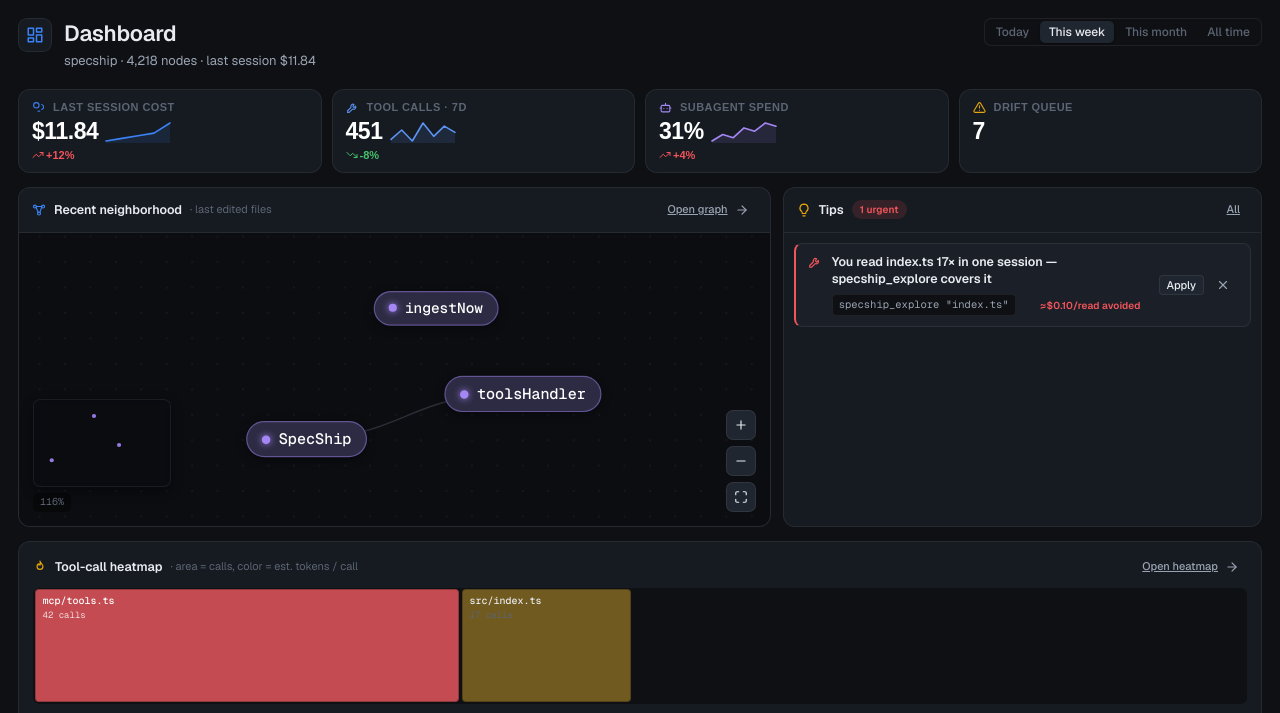
Scenario: DashboardPage (REQ-DESKTOP-020) › A2: Dismiss POSTs the state and removes the tip from the rail
This screenshot has width=1280, height=713.
Expected: the text "You read index.ts 17× in one session — specship_explore covers it" is shown, [832,253,1057,287]
Click the button titled "Dismiss".
click(1223, 285)  # box [1208,275,1238,295]
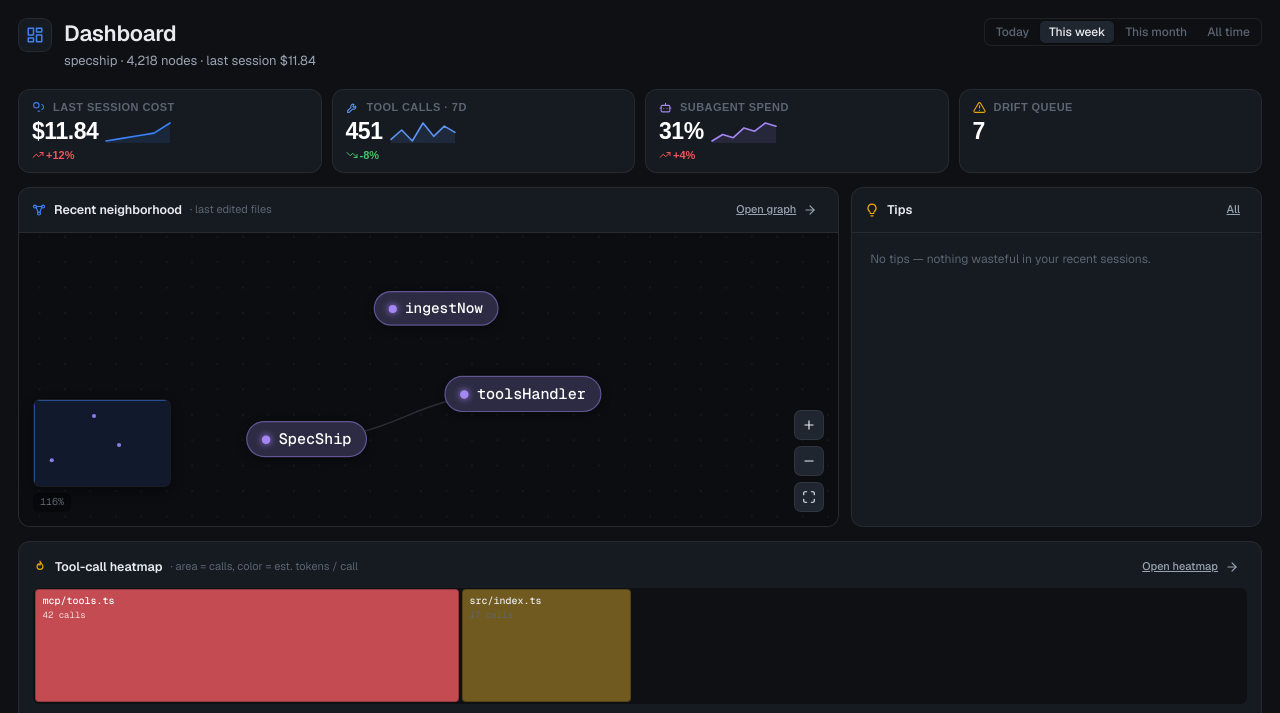
Expected: the text "No tips — nothing wasteful in your recent sessions." is shown, [870,251,1150,267]
Expected: the text "You read index.ts 17× in one session — specship_explore covers it" is gone
